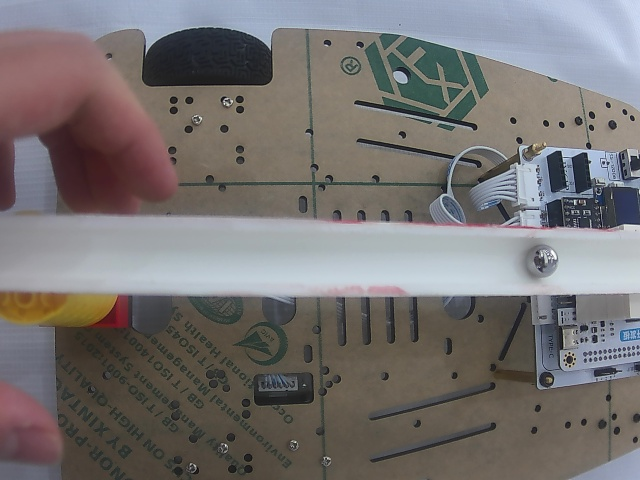steelball: (526, 245, 559, 278)
